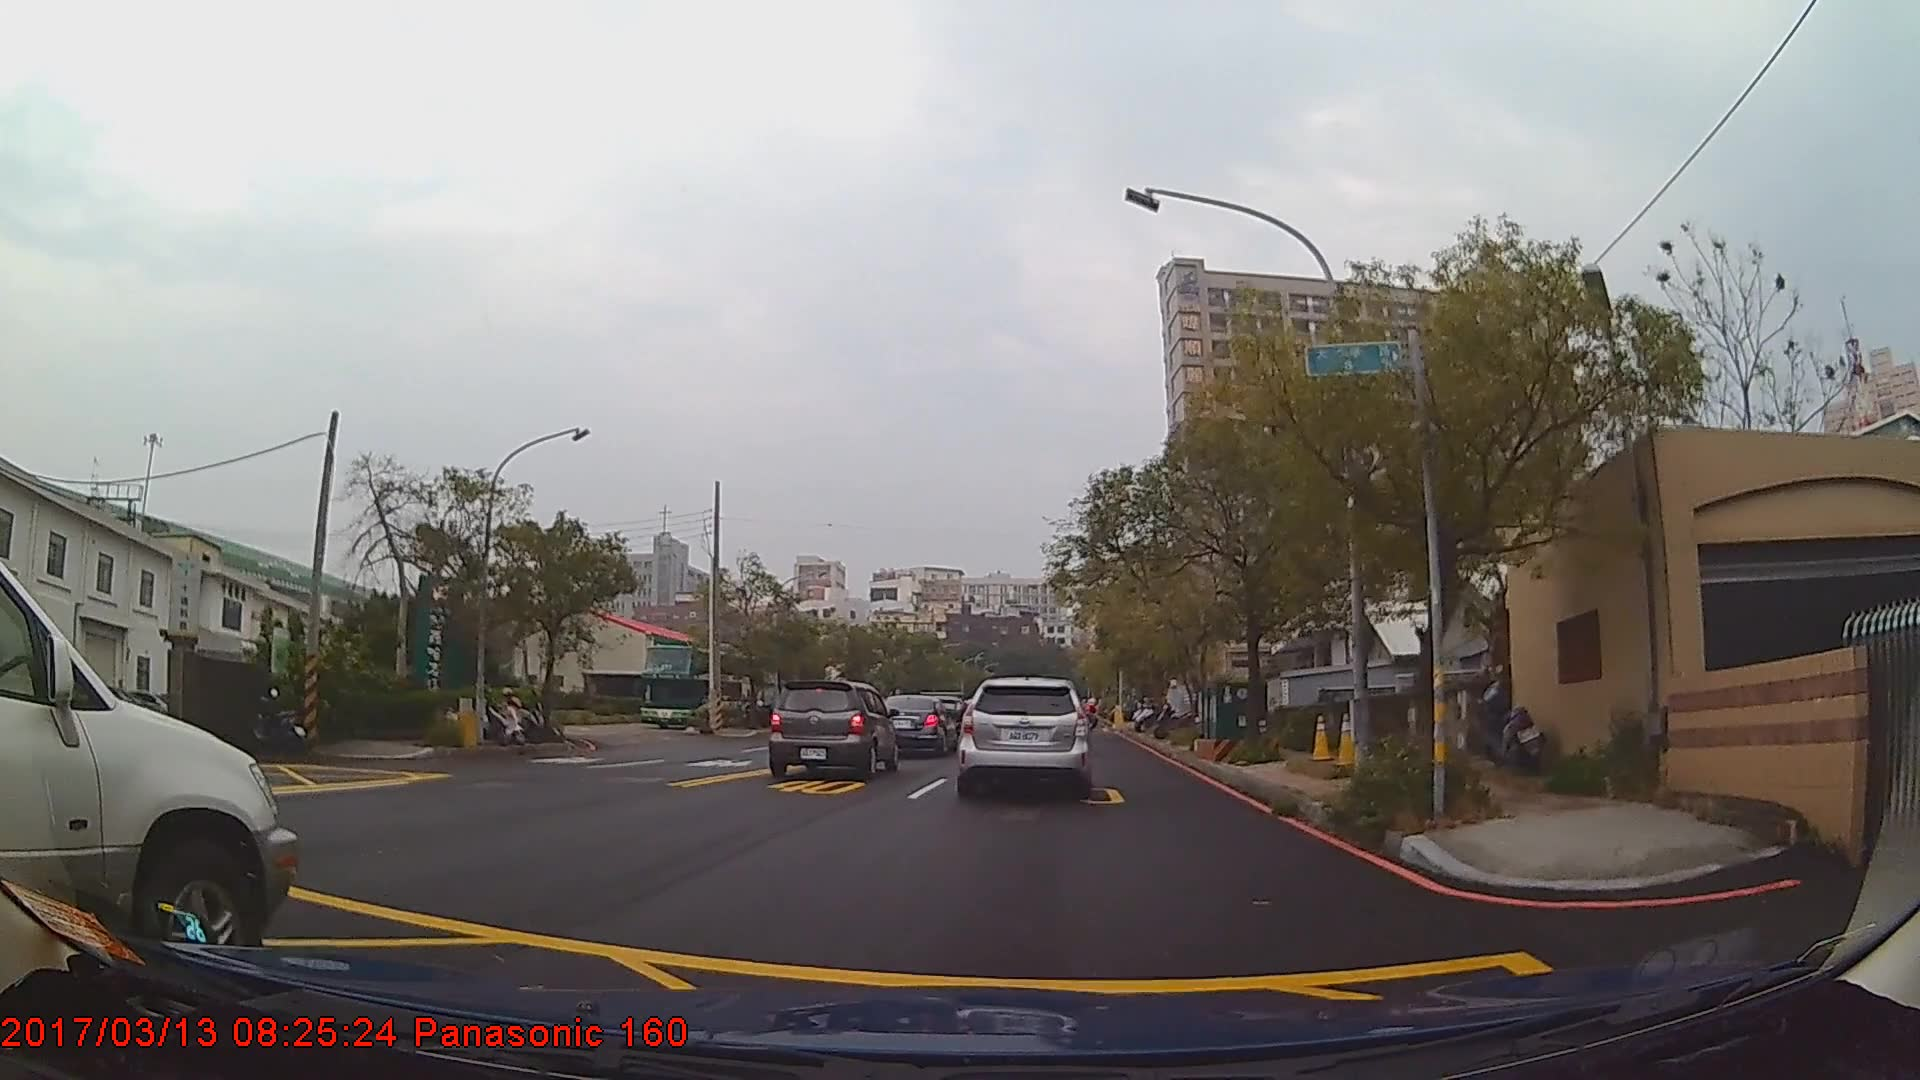vehicle: (0, 556, 295, 985), (955, 676, 1093, 800), (765, 678, 898, 775), (640, 640, 760, 727), (874, 690, 957, 757)
